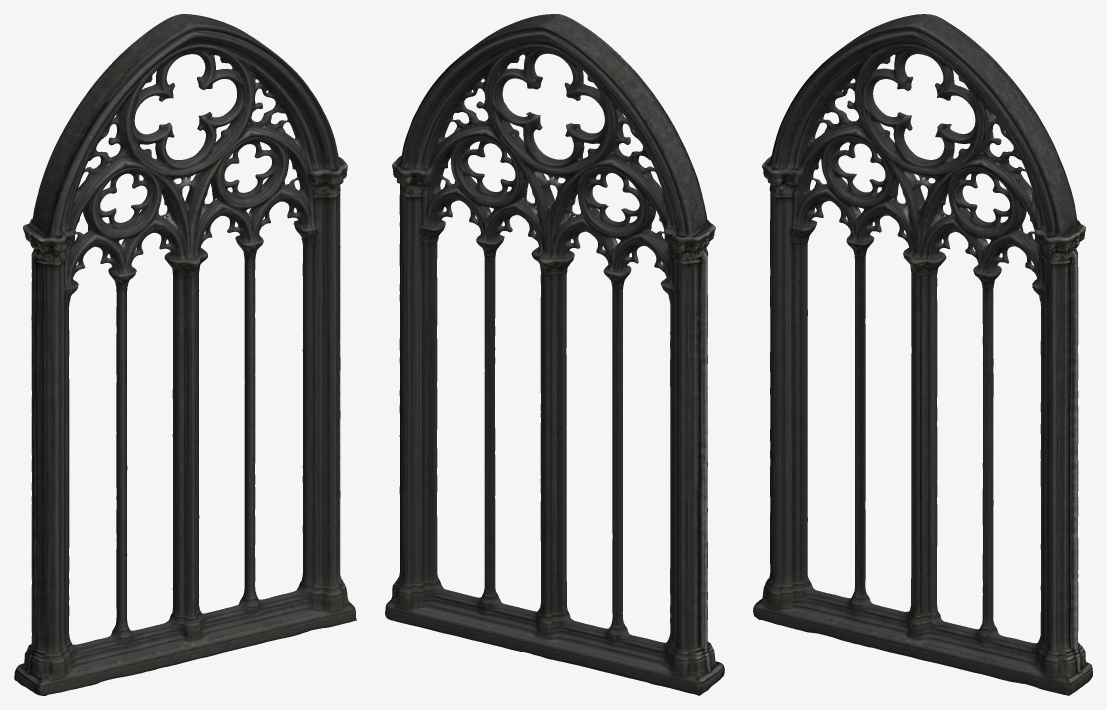
File: gothic-window.glb
3 views of the same model, side by side, from view 1: azimuth 30°, elevation 25°; view 2: azimuth 150°, elevation 25°; view 3: azimuth 330°, elevation 25° (orthographic).
Visible parts, largest first — view 1: tripo_node_08d8b65f; view 2: tripo_node_08d8b65f; view 3: tripo_node_08d8b65f.
Boxes of the visible parts, x1,y1,x2,y2 form: tripo_node_08d8b65f: (14, 14, 356, 695); tripo_node_08d8b65f: (385, 14, 724, 695); tripo_node_08d8b65f: (753, 14, 1092, 695).
Bounding box in the file's own units: 51.76 × 97.82 × 8.16.
1 material, 1 textured.
